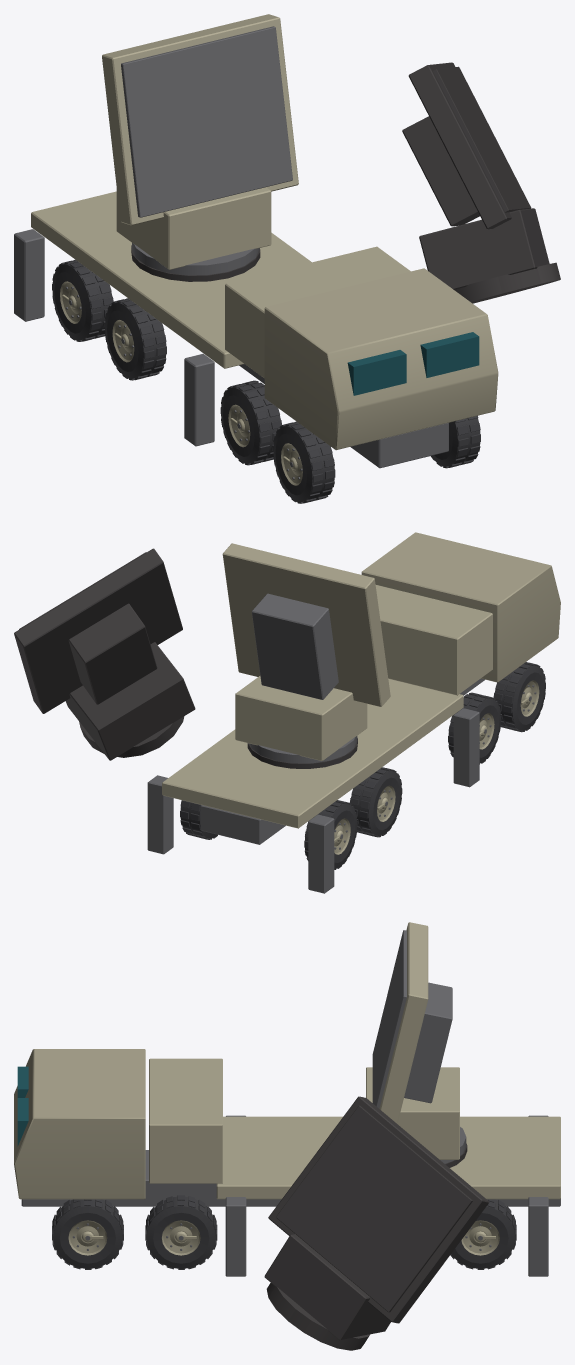
Rendered from counterBatteryRadar__slc_2.glb.
The picture shows the model from 3 angles, top to bottom: view 1: azimuth 30°, elevation 25°; view 2: azimuth 150°, elevation 25°; view 3: azimuth 270°, elevation 25°; orthographic projection. The views are drawn at different scales.
Visible parts, largest first — view 1: Hull_Mesh, Gun_Mesh, Wreck, Turret_Mesh, Wheel_L1_Mesh, Wheel_L3_Mesh, Wheel_L2_Mesh, Wheel_L0_Mesh, Wheel_R3_Mesh; view 2: Hull_Mesh, Wreck, Gun_Mesh, Turret_Mesh, Wheel_L1_Mesh, Wheel_L3_Mesh, Wheel_L2_Mesh, Wheel_L0_Mesh, Wheel_R0_Mesh; view 3: Hull_Mesh, Wreck, Gun_Mesh, Wheel_R2_Mesh, Wheel_R3_Mesh, Turret_Mesh, Wheel_R0_Mesh.
Part boxes in pixels (<box>): Hull_Mesh: <box>14,191,498,468</box>; Gun_Mesh: <box>102,14,298,225</box>; Wreck: <box>67,62,560,502</box>; Turret_Mesh: <box>116,187,271,275</box>; Wheel_L1_Mesh: <box>104,298,166,380</box>; Wheel_L3_Mesh: <box>273,421,335,503</box>; Wheel_L2_Mesh: <box>220,380,281,465</box>; Wheel_L0_Mesh: <box>52,259,113,341</box>; Wheel_R3_Mesh: <box>430,415,480,468</box>; Hull_Mesh: <box>147,532,560,893</box>; Wreck: <box>14,548,524,869</box>; Gun_Mesh: <box>222,543,390,706</box>; Turret_Mesh: <box>235,676,367,763</box>; Wheel_L1_Mesh: <box>349,767,402,837</box>; Wheel_L3_Mesh: <box>493,662,545,732</box>; Wheel_L2_Mesh: <box>448,692,501,764</box>; Wheel_L0_Mesh: <box>304,800,357,869</box>; Wheel_R0_Mesh: <box>180,800,217,839</box>; Hull_Mesh: <box>14,1049,560,1276</box>; Wreck: <box>264,1096,489,1350</box>; Gun_Mesh: <box>372,922,452,1123</box>; Wheel_R2_Mesh: <box>145,1195,217,1269</box>; Wheel_R3_Mesh: <box>52,1199,123,1269</box>; Turret_Mesh: <box>366,1067,466,1163</box>; Wheel_R0_Mesh: <box>450,1199,516,1269</box>.
Size of what is drawn, in the model's own units: 6.85 by 4.72 by 8.5.
